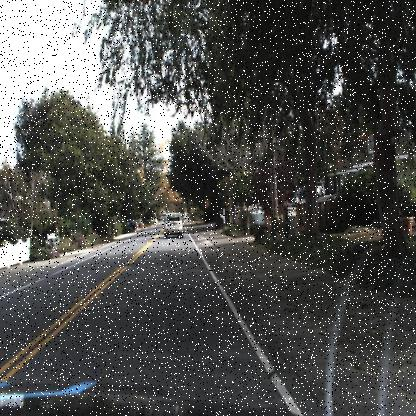car: (289, 179, 337, 213), (163, 207, 186, 241)
